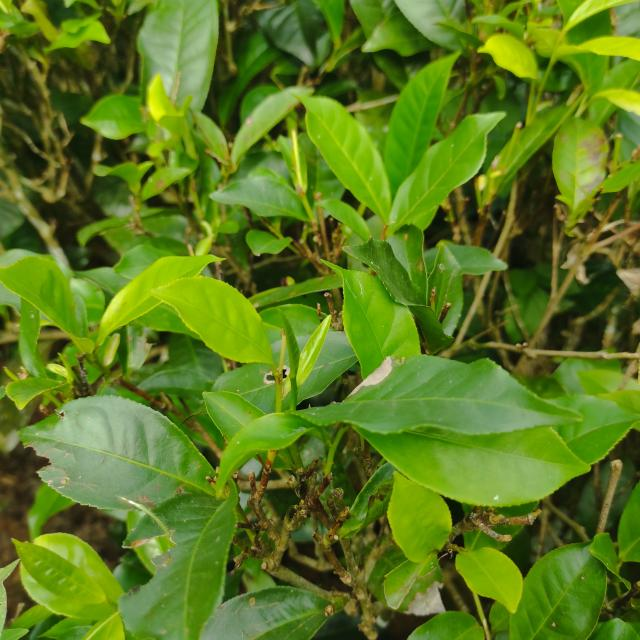unopened_leaf: (277, 306, 305, 394)
